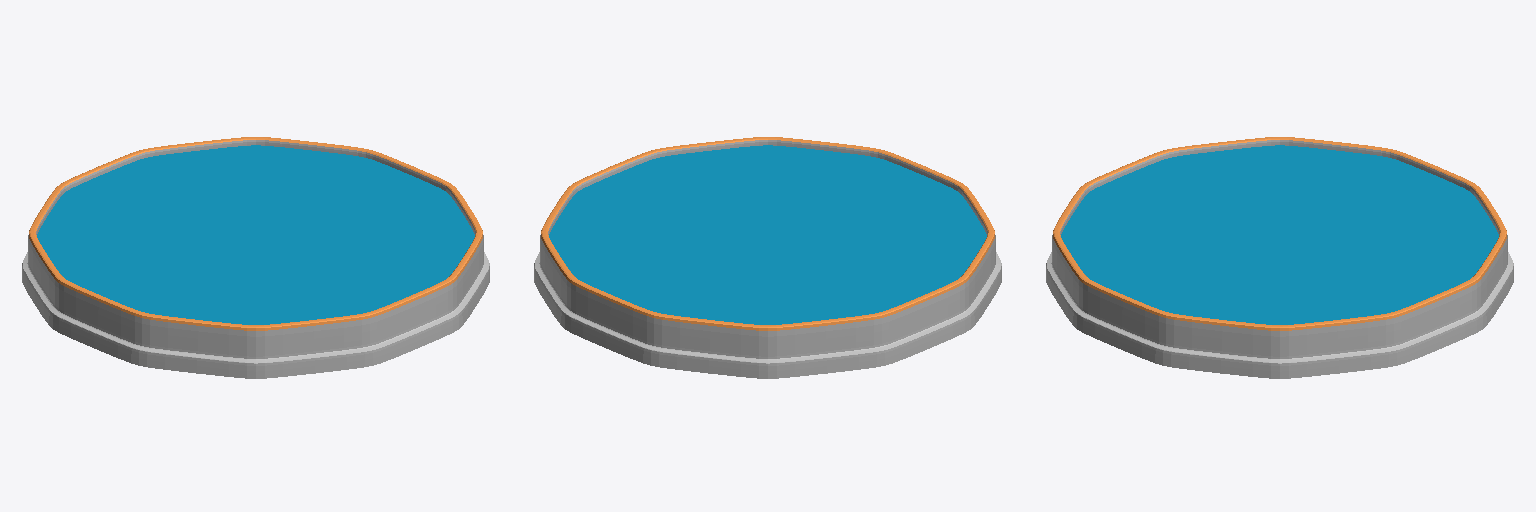
Rendered from fountain.obj.
3 views of the same model, side by side, from view 1: azimuth 30°, elevation 25°; view 2: azimuth 150°, elevation 25°; view 3: azimuth 270°, elevation 25° (orthographic).
Parts seen in each view (by area): view 1: Fountain; view 2: Fountain; view 3: Fountain.
Part boxes in pixels (bbox=[...]): Fountain: bbox=[22, 137, 489, 378]; Fountain: bbox=[534, 137, 1001, 378]; Fountain: bbox=[1046, 137, 1513, 378].
Bounding box in the file's own units: 16.02 × 1.82 × 16.02.